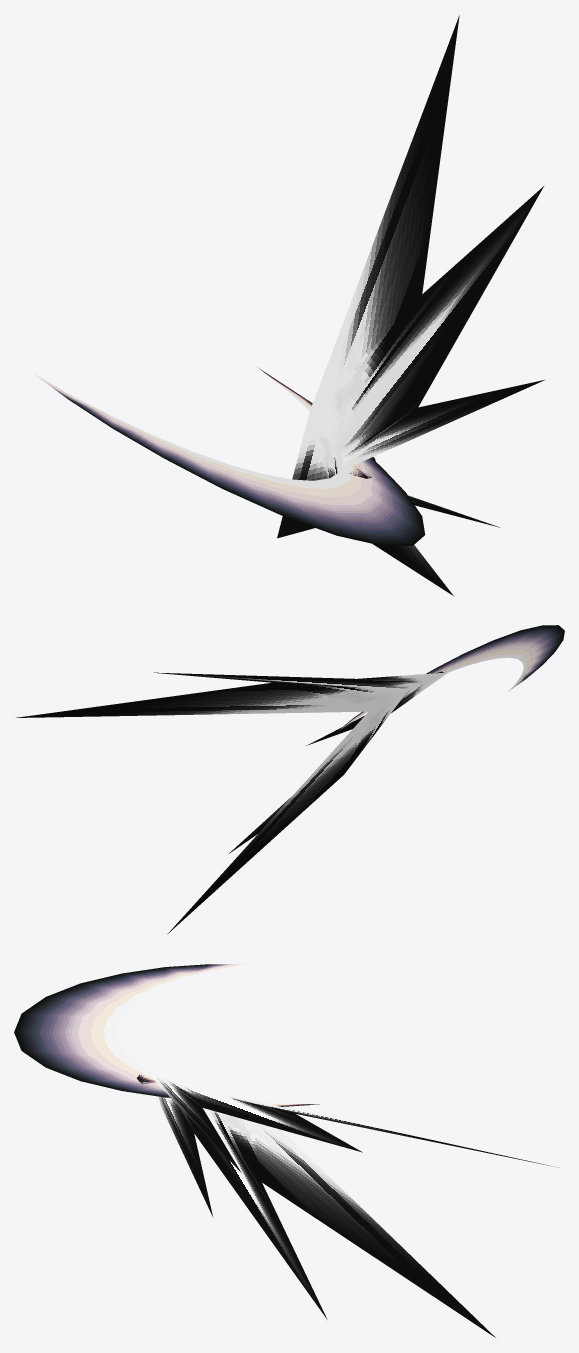
The model's file is EffCommonHitCutShockWave.obj.
3 views of the same model, one above another, from view 1: azimuth 30°, elevation 25°; view 2: azimuth 150°, elevation 25°; view 3: azimuth 270°, elevation 25° (orthographic). The views are drawn at different scales.
Parts seen in each view (by area): view 1: polygon3, polygon0, polygon2; view 2: polygon3, polygon2, polygon0; view 3: polygon2, polygon0, polygon3.
Part boxes in pixels (bbox=[...]): polygon3: bbox=[310, 15, 545, 471]; polygon0: bbox=[33, 373, 425, 545]; polygon2: bbox=[277, 411, 500, 595]; polygon3: bbox=[16, 672, 447, 717]; polygon2: bbox=[167, 673, 447, 934]; polygon0: bbox=[426, 625, 564, 692]; polygon2: bbox=[156, 1096, 495, 1337]; polygon0: bbox=[14, 964, 249, 1097]; polygon3: bbox=[144, 1069, 556, 1172].
Bounding box in the file's own units: 30.02 × 17.81 × 36.
3 materials, 3 textured.
